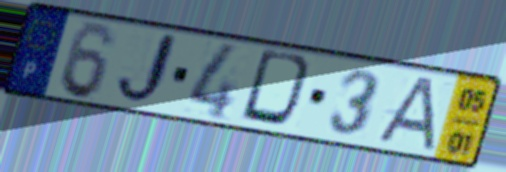3: (327, 68, 383, 138)
4: (186, 40, 238, 123)
6: (56, 18, 120, 102)
A: (370, 75, 438, 155)
D: (236, 46, 319, 132)
J: (112, 29, 182, 109)
